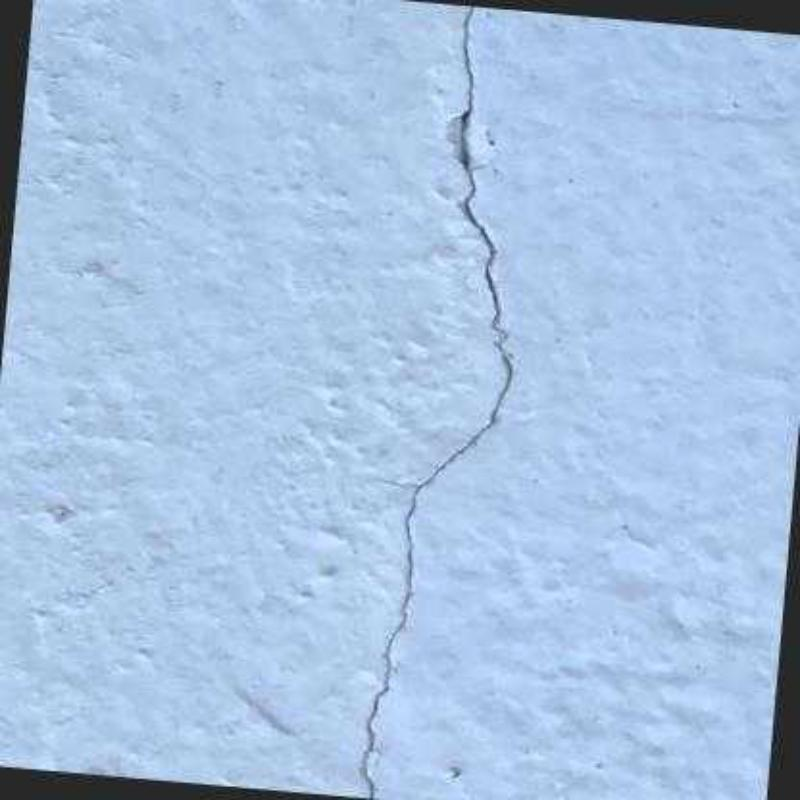pothole: (357, 4, 517, 800)
